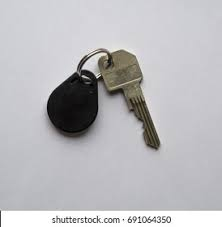key: (96, 48, 162, 150)
